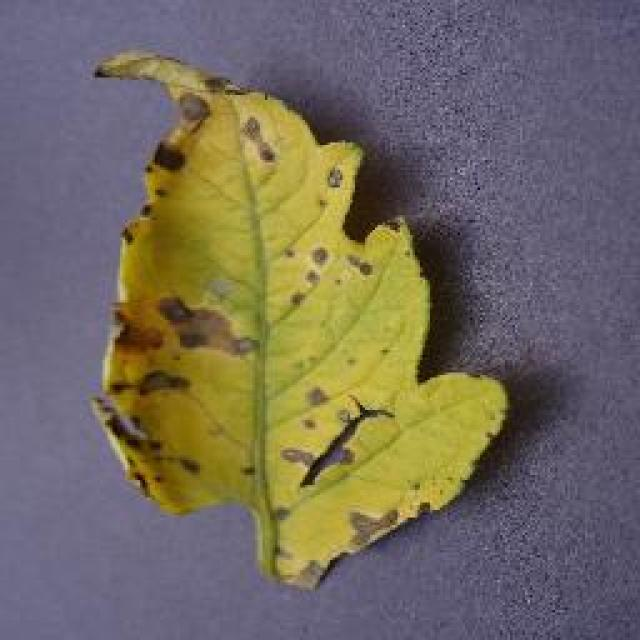Tomato___Septoria_leaf_spot: (92, 52, 505, 585)
